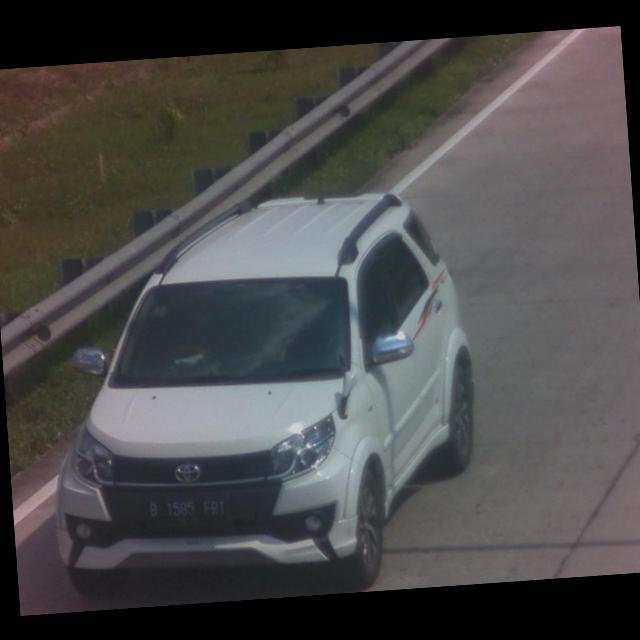plate: (144, 492, 230, 526)
